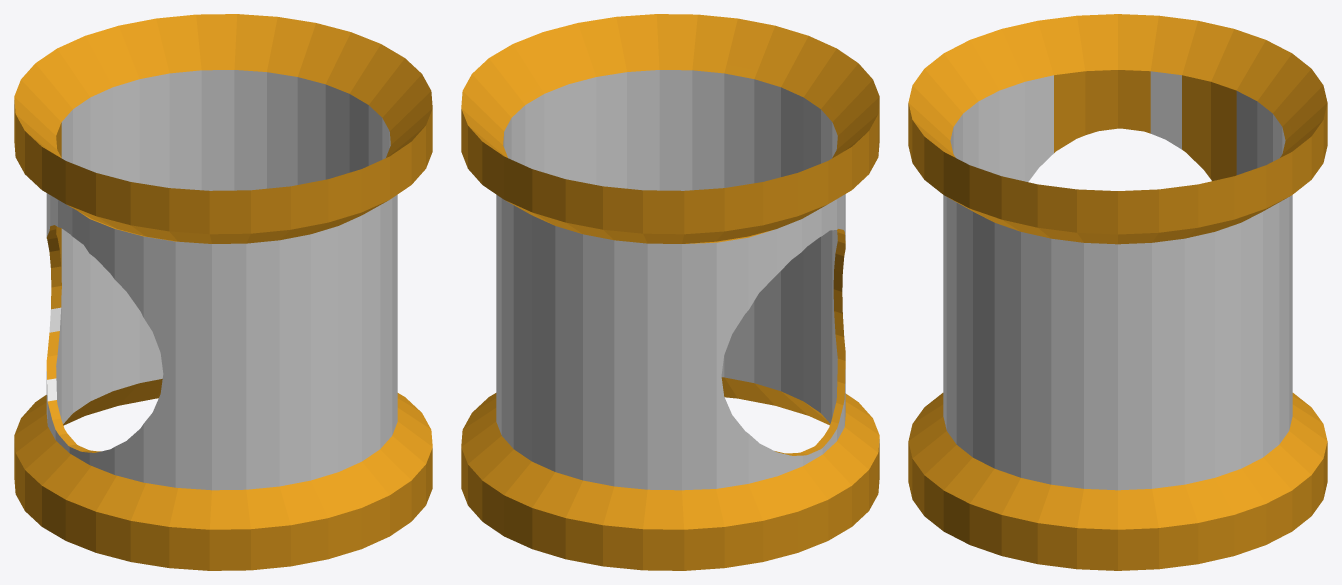
File: tubetrou.fbx
3 views of the same model, side by side, from view 1: azimuth 30°, elevation 25°; view 2: azimuth 150°, elevation 25°; view 3: azimuth 270°, elevation 25° (orthographic).
Visible parts, largest first — view 1: Cylinder.001; view 2: Cylinder.001; view 3: Cylinder.001.
Part boxes in pixels (x1,y1,x2,y2): Cylinder.001: (14,14,432,570); Cylinder.001: (461,14,879,570); Cylinder.001: (908,14,1327,570).
Bounding box in the file's own units: 240 × 240 × 240.
